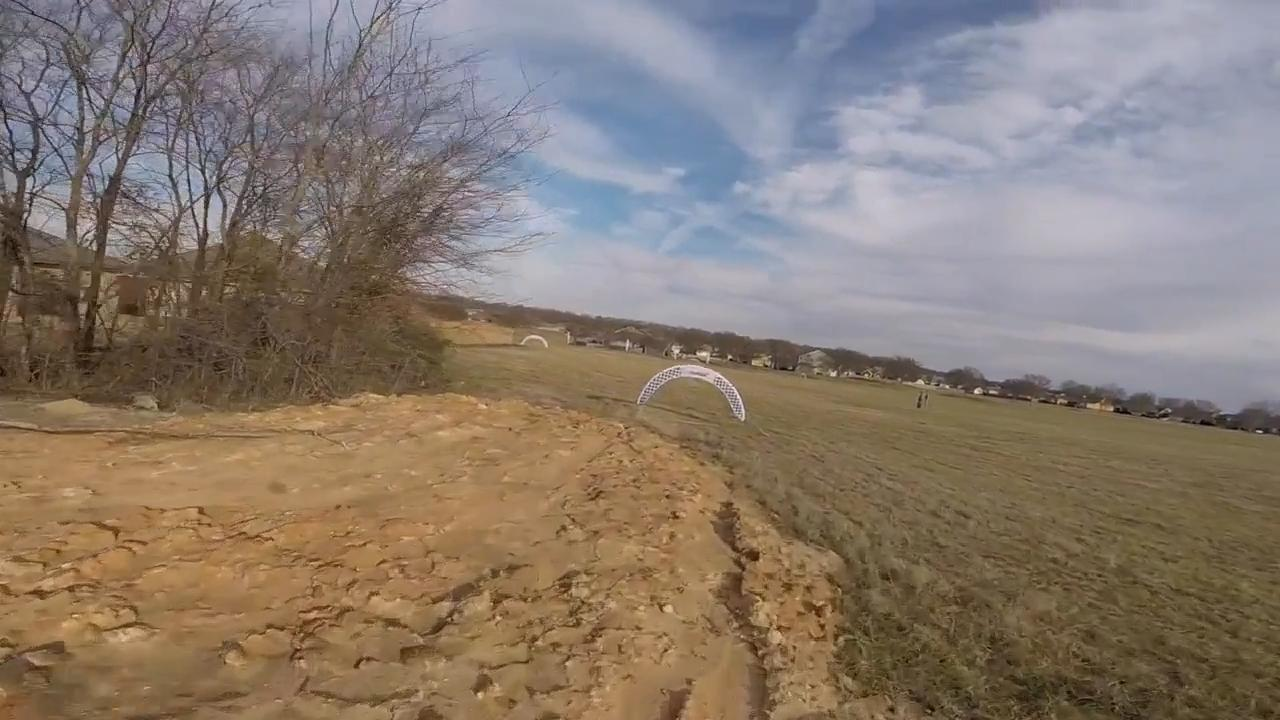gate: (631, 365, 744, 425)
